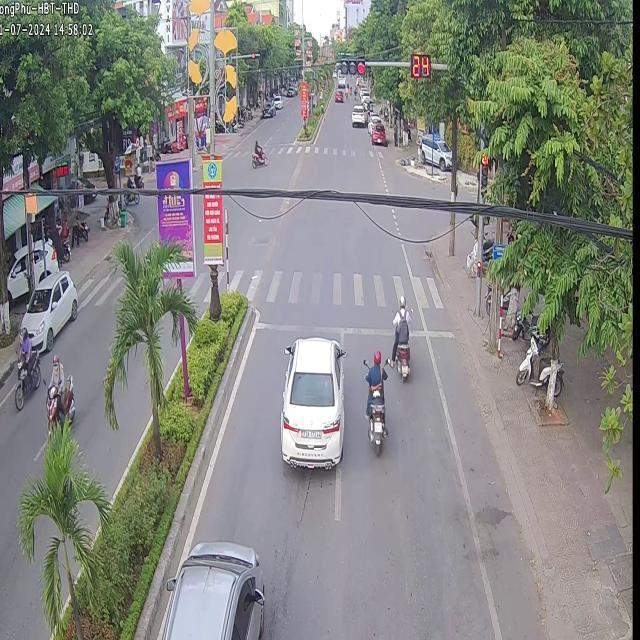car: (160, 540, 263, 638), (279, 336, 344, 467), (19, 269, 76, 348)
motobike: (364, 349, 386, 454), (388, 294, 410, 378), (13, 349, 39, 409), (44, 378, 59, 427), (60, 374, 73, 420)
red_light: (411, 53, 430, 77), (340, 60, 365, 75), (480, 149, 487, 190)
stop_line: (250, 320, 396, 334), (405, 328, 453, 337)
